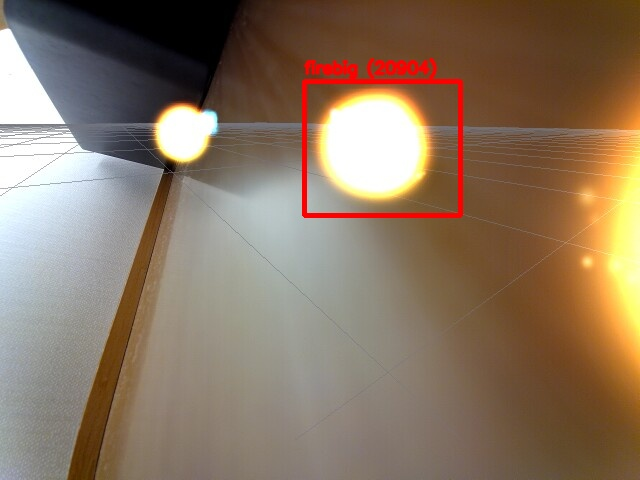firebig: (304, 81, 460, 215)
